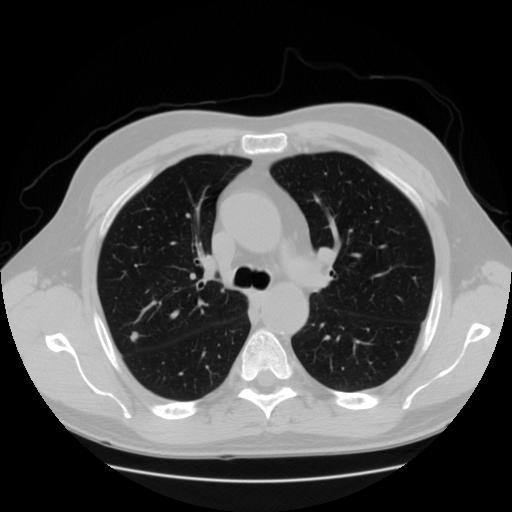nodule: (126, 329, 142, 345)
